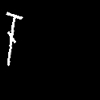double_crochet: (6, 12, 22, 65)
